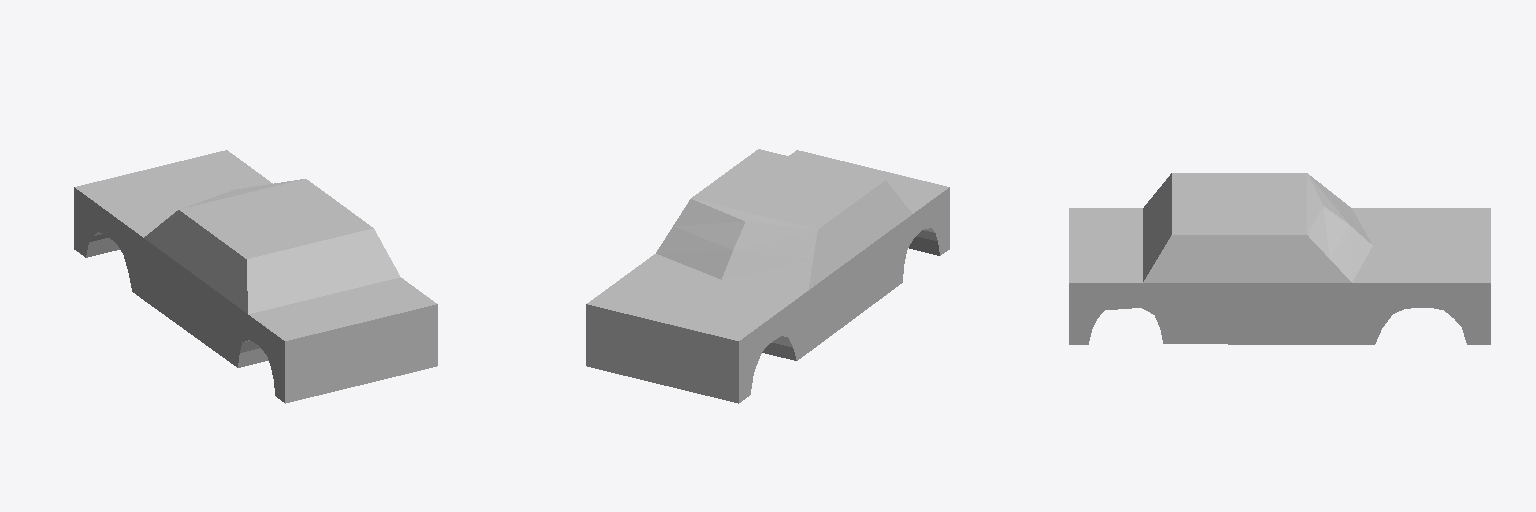
The model's file is car.obj.
3 views of the same model, side by side, from view 1: azimuth 30°, elevation 25°; view 2: azimuth 150°, elevation 25°; view 3: azimuth 270°, elevation 25° (orthographic).
Visible parts, largest first — view 1: Cube; view 2: Cube; view 3: Cube.
Part boxes in pixels (x1,y1,x2,y2): Cube: (74,150,437,403); Cube: (586,149,949,403); Cube: (1069,173,1490,344).
Size of the model in its own units: 5.13 by 3.34 by 12.28.